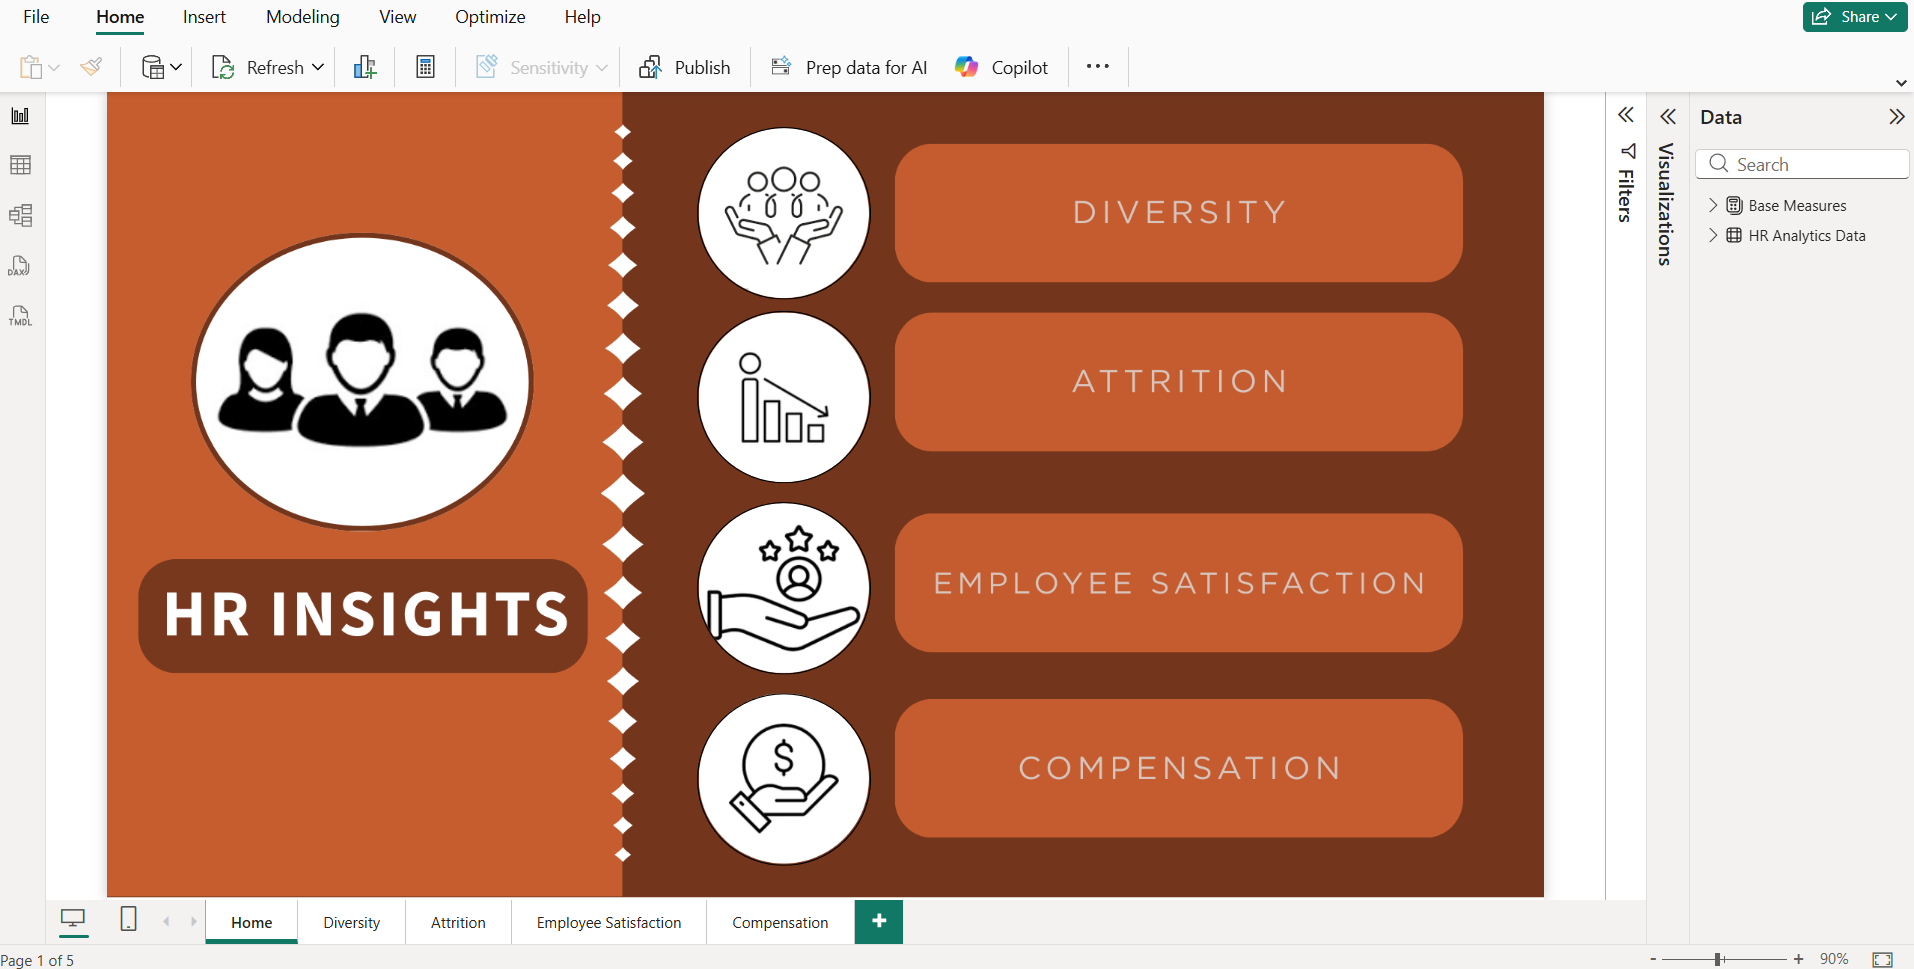

This screenshot's page, from the dashboard's own definition file:
{"tool":"powerbi","page":{"name":"Home","canvas":[1280,720],"ordinal":0},"visuals":[{"type":"shape","box":[525,31.2,155,153.8],"z":0},{"type":"shape","box":[525,195,155,153.8],"z":1000},{"type":"shape","box":[525,365,155,153.8],"z":2000},{"type":"shape","box":[525,535,155,153.8],"z":3000}]}

Visuals, with their boxes on the page's 1280x720 design canvas (x1, y1, x2, y2). These are canvas units, not pixel positions in the 1914x969 screenshot, which may show the page scaled, cropped or inside an application window:
shape: bbox=(525, 31, 680, 185)
shape: bbox=(525, 195, 680, 349)
shape: bbox=(525, 365, 680, 519)
shape: bbox=(525, 535, 680, 689)
